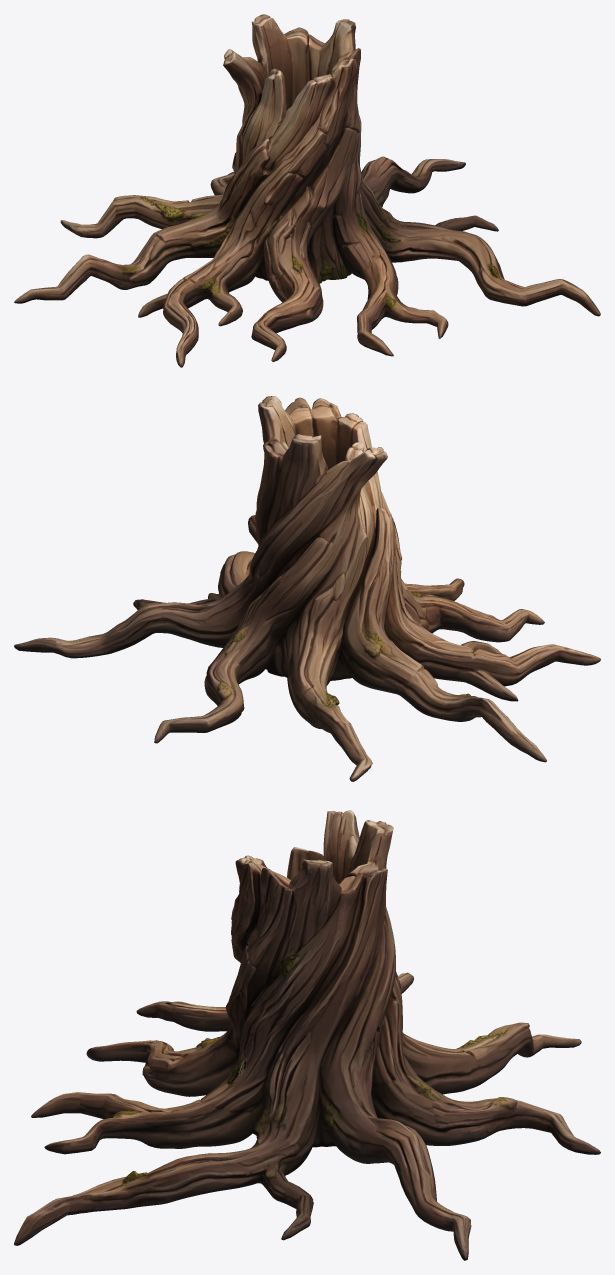
Rendered from oak_0.glb.
The picture shows the model from 3 angles, top to bottom: view 1: azimuth 30°, elevation 25°; view 2: azimuth 150°, elevation 25°; view 3: azimuth 270°, elevation 25°; orthographic projection. The views are drawn at different scales.
Visible parts, largest first — view 1: oak; view 2: oak; view 3: oak.
Boxes of the visible parts, x1,y1,x2,y2 form: oak: (14, 14, 600, 367); oak: (14, 396, 600, 781); oak: (14, 810, 600, 1260).
Bounding box in the file's own units: 40.65 × 19.7 × 34.53.
Materials: 1 (1 with a texture image).
